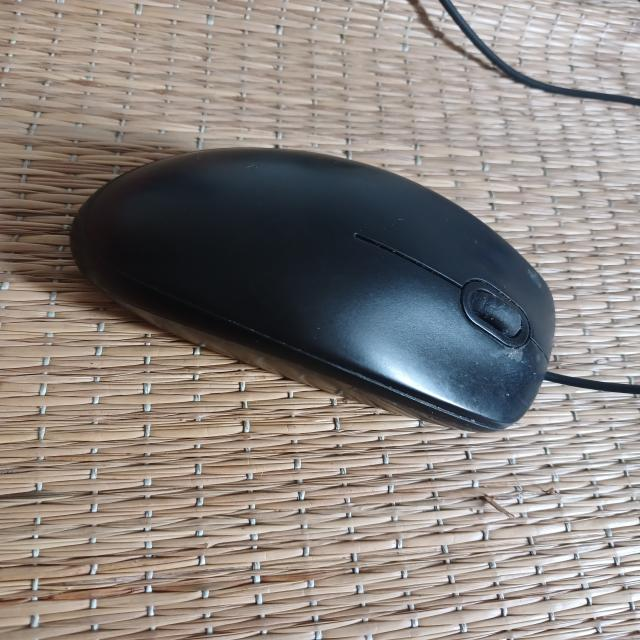mouse: (69, 135, 571, 445)
